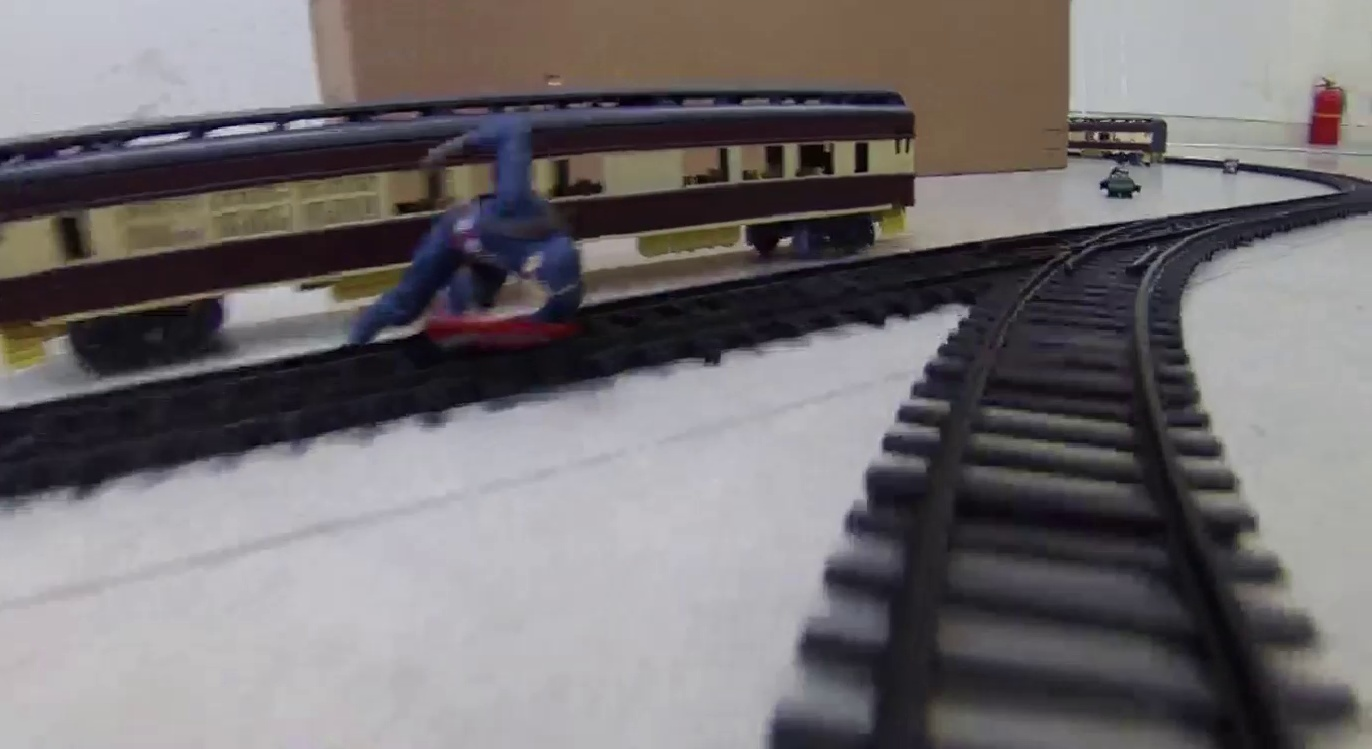people: (348, 120, 588, 347)
